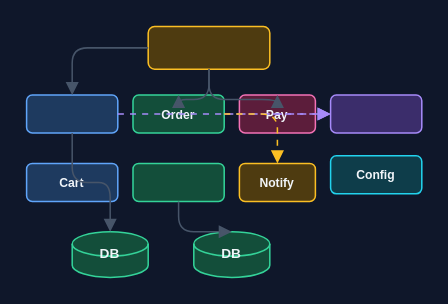
Some shapes in this 448 by 304 pixel diagram are drawn without their labels. The shapes that lost their labels are listed below. From the top down, each one's centre as x and y in pixels, then its label:
At [208,47]: "Gateway".
At [71,113]: "User".
At [375,113]: "Registry".
At [177,181]: "Search".
